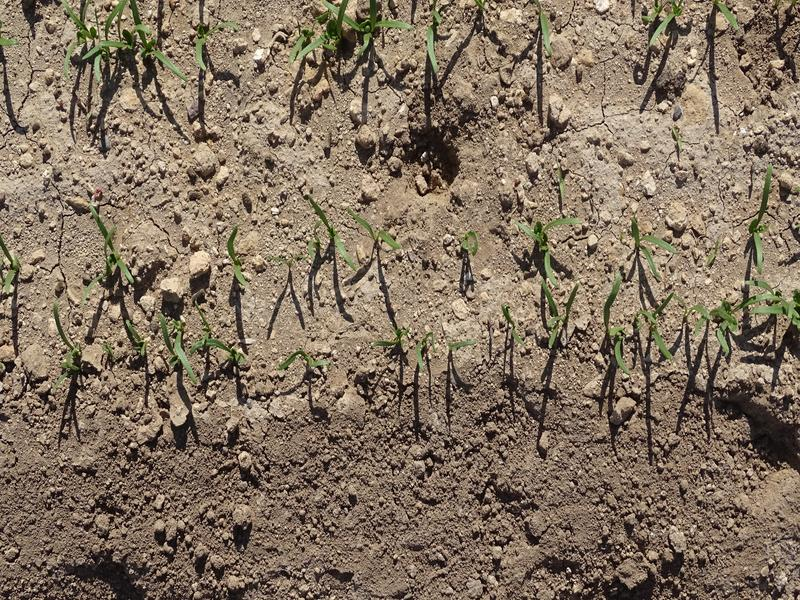Espinaca: (597, 283, 798, 367), (52, 10, 192, 84), (285, 2, 412, 64), (311, 201, 404, 277), (149, 309, 234, 384), (73, 214, 136, 289), (642, 2, 742, 46), (625, 223, 685, 277), (520, 211, 567, 277), (540, 283, 583, 344), (749, 168, 773, 274), (221, 232, 261, 280), (424, 9, 450, 75), (47, 349, 88, 390), (534, 15, 560, 58), (452, 234, 485, 259)
